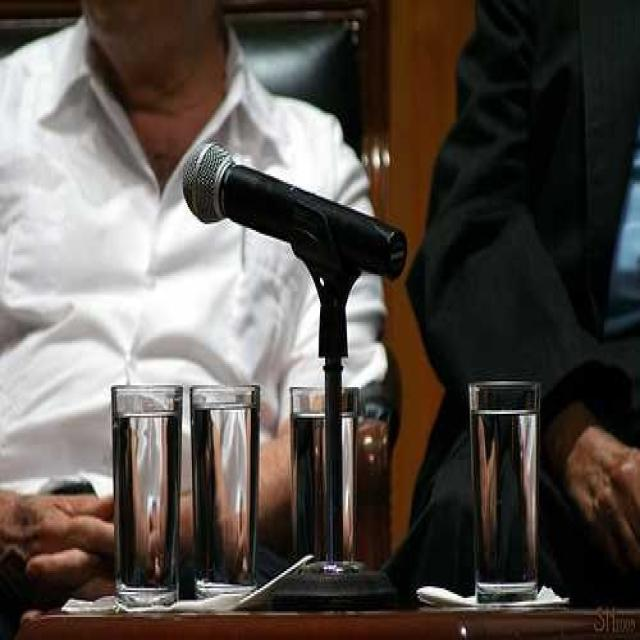microphone: (184, 141, 402, 289)
